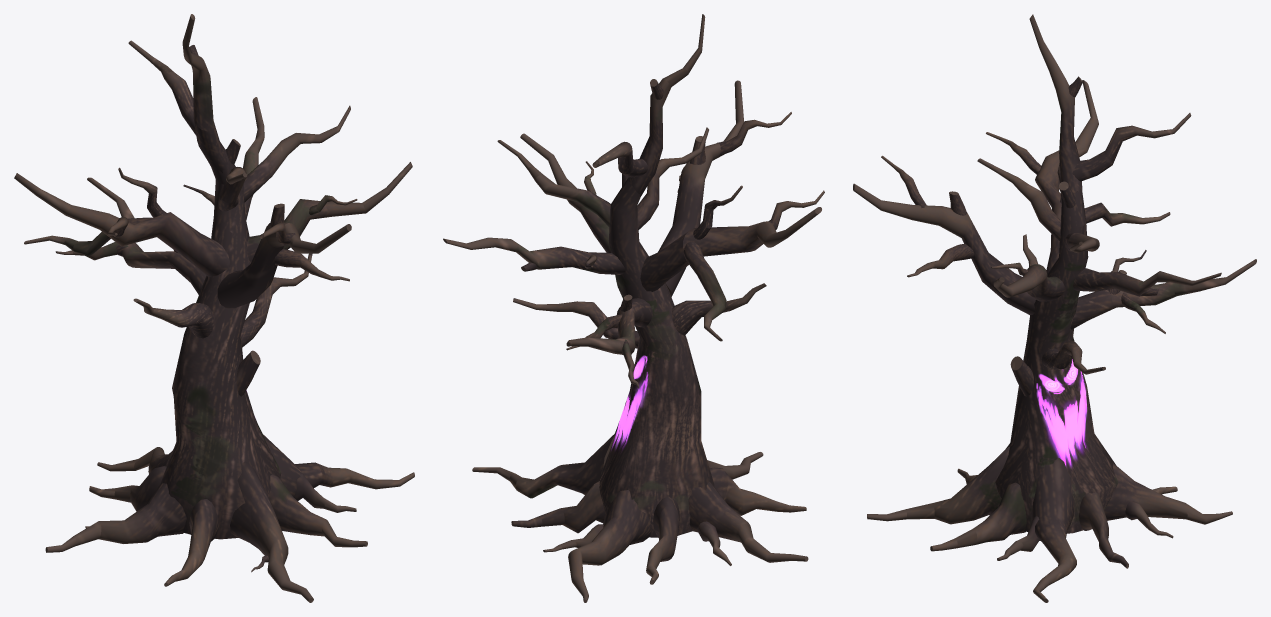
The model's file is background_tree.glb.
The picture shows the model from 3 angles, left to right: view 1: azimuth 30°, elevation 25°; view 2: azimuth 150°, elevation 25°; view 3: azimuth 270°, elevation 25°; orthographic projection. The views are drawn at different scales.
Parts seen in each view (by area): view 1: group31_pasted__group28_pasted__pasted__group19_pasted__past; view 2: group31_pasted__group28_pasted__pasted__group19_pasted__past; view 3: group31_pasted__group28_pasted__pasted__group19_pasted__past.
Part boxes in pixels (bbox=[...]): group31_pasted__group28_pasted__pasted__group19_pasted__past: bbox=[14, 14, 414, 602]; group31_pasted__group28_pasted__pasted__group19_pasted__past: bbox=[443, 14, 824, 602]; group31_pasted__group28_pasted__pasted__group19_pasted__past: bbox=[853, 14, 1256, 602].
Size of the model in its own units: 0.4294 by 0.5781 by 0.4267.
Materials: 1 (1 with a texture image).
